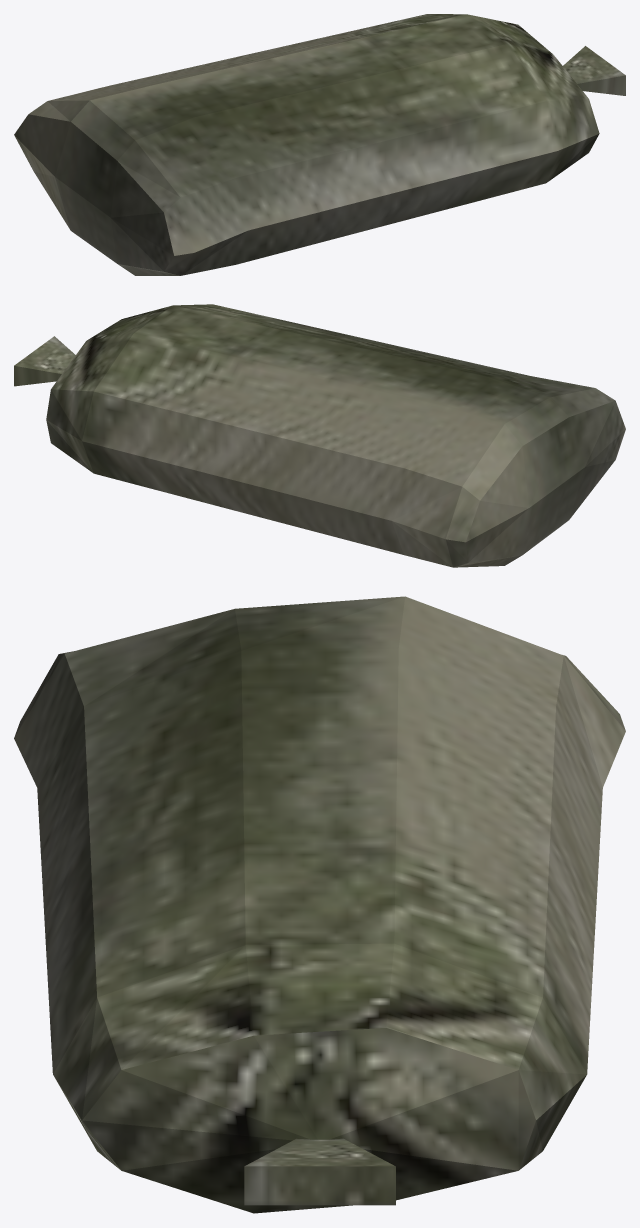
File: Sandbag01.obj
3 views of the same model, one above another, from view 1: azimuth 30°, elevation 25°; view 2: azimuth 150°, elevation 25°; view 3: azimuth 270°, elevation 25° (orthographic). The views are drawn at different scales.
Parts seen in each view (by area): view 1: Sandbag01; view 2: Sandbag01; view 3: Sandbag01.
Part boxes in pixels (<box>): Sandbag01: <box>14,14,625,275</box>; Sandbag01: <box>14,304,625,567</box>; Sandbag01: <box>14,596,625,1213</box>.
Size of the model in its own units: 1.68 by 0.4465 by 0.9074.
